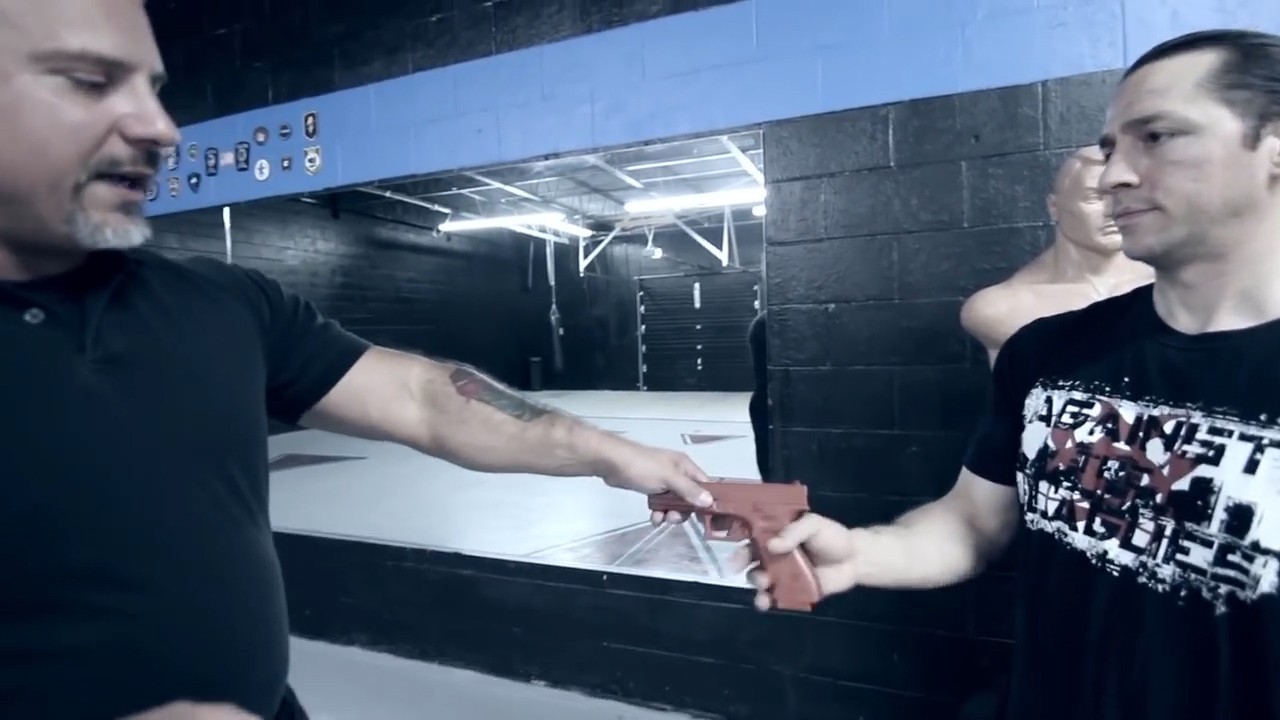pistol: (647, 476, 828, 614)
